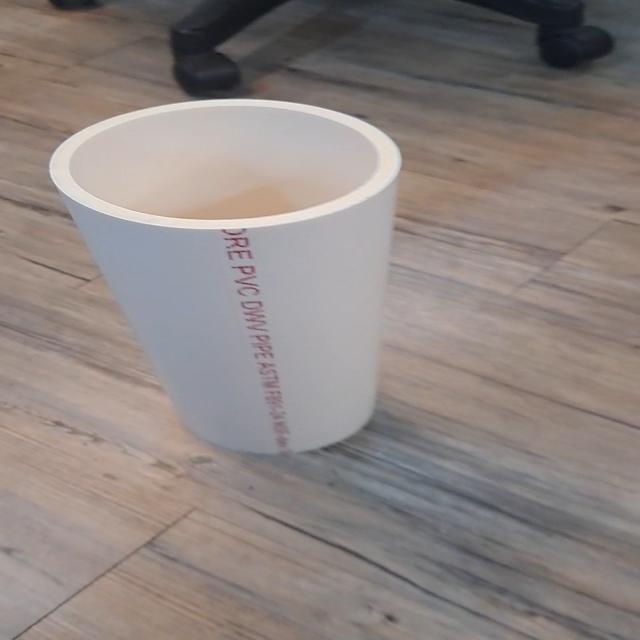CORAL: (45, 84, 428, 458)
